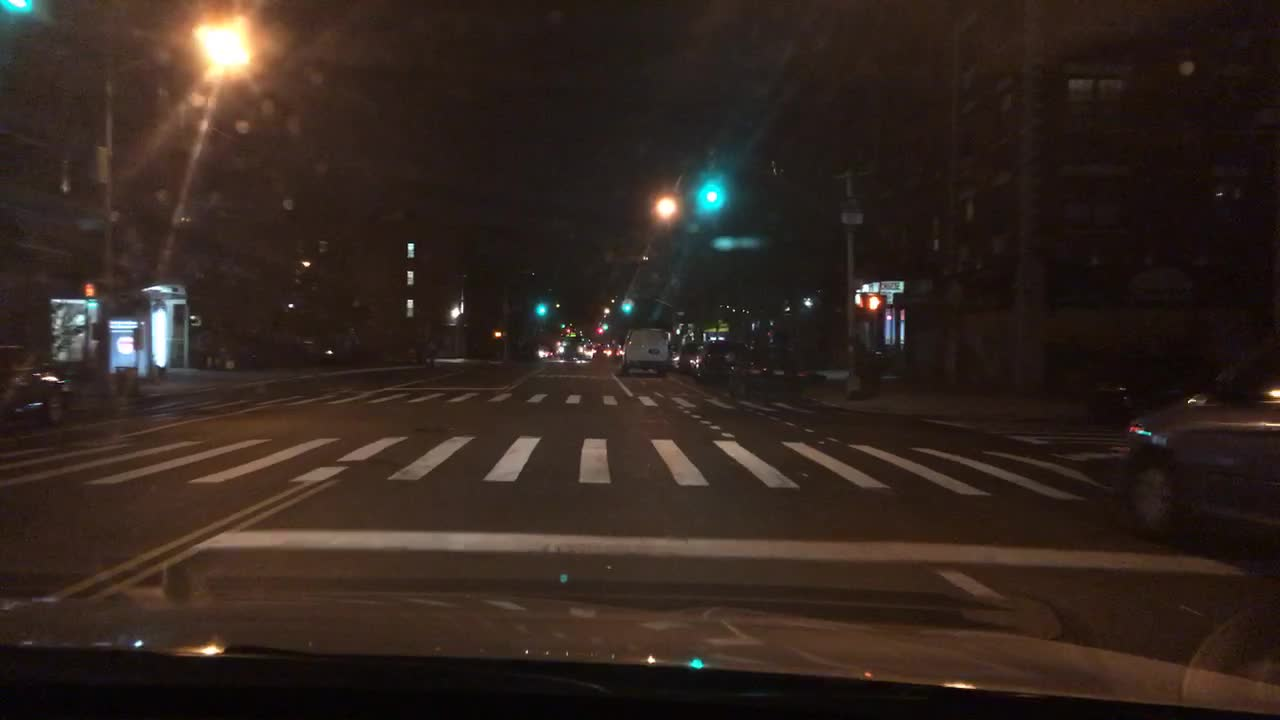bike: (725, 354, 756, 408)
car: (1115, 326, 1279, 543), (1088, 347, 1204, 437), (0, 341, 71, 427), (617, 324, 670, 376), (687, 336, 734, 381), (557, 334, 592, 361), (671, 339, 698, 373)
person: (849, 329, 876, 399), (195, 322, 217, 373), (424, 333, 438, 365)
rider: (725, 334, 754, 376)
traffic light: (705, 174, 719, 214), (82, 280, 99, 307), (3, 0, 30, 13), (852, 290, 865, 314), (865, 293, 881, 312), (535, 295, 545, 317), (621, 295, 631, 315), (492, 328, 503, 338), (597, 320, 603, 334)
traffic sign: (840, 199, 862, 226), (77, 212, 104, 231)
